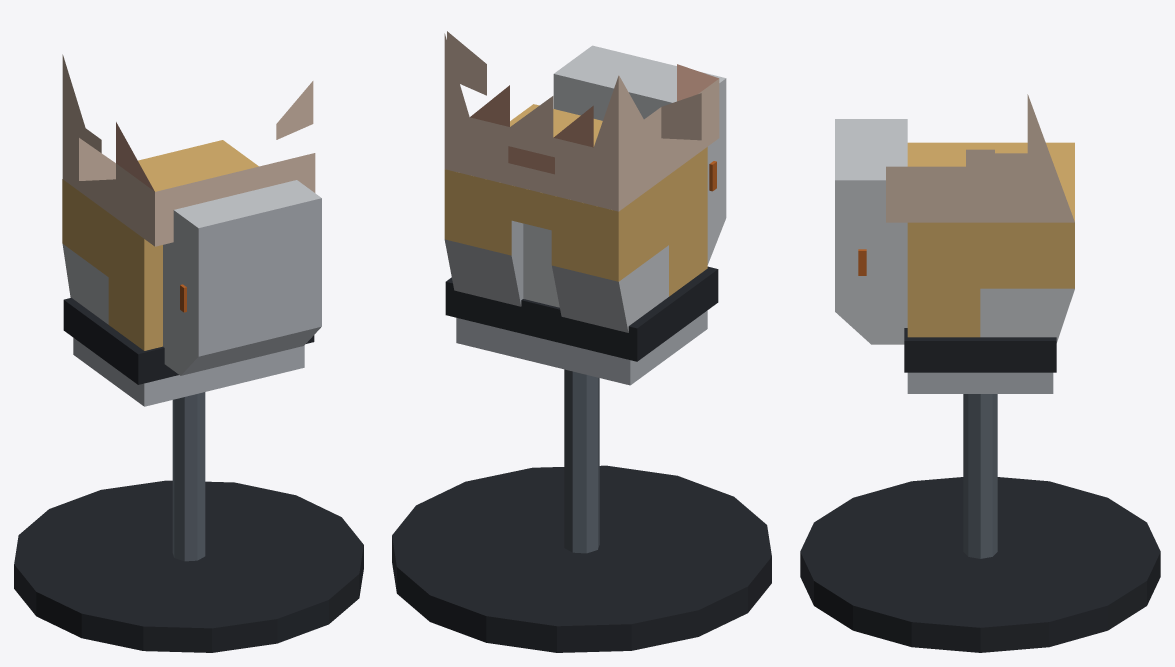
The model's file is armour-light.glb.
3 renders of one model, left to right at view 1: azimuth 30°, elevation 25°; view 2: azimuth 150°, elevation 25°; view 3: azimuth 270°, elevation 25°, orthographic. The views are drawn at different scales.
Visible parts, largest first — view 1: armour-light; view 2: armour-light; view 3: armour-light.
Boxes of the visible parts, box(x1,y1,x2,y2) form: armour-light: box(14, 54, 363, 652); armour-light: box(392, 31, 771, 652); armour-light: box(800, 94, 1160, 652).
Size of the model in its own units: 0.52 by 0.8321 by 0.52.
